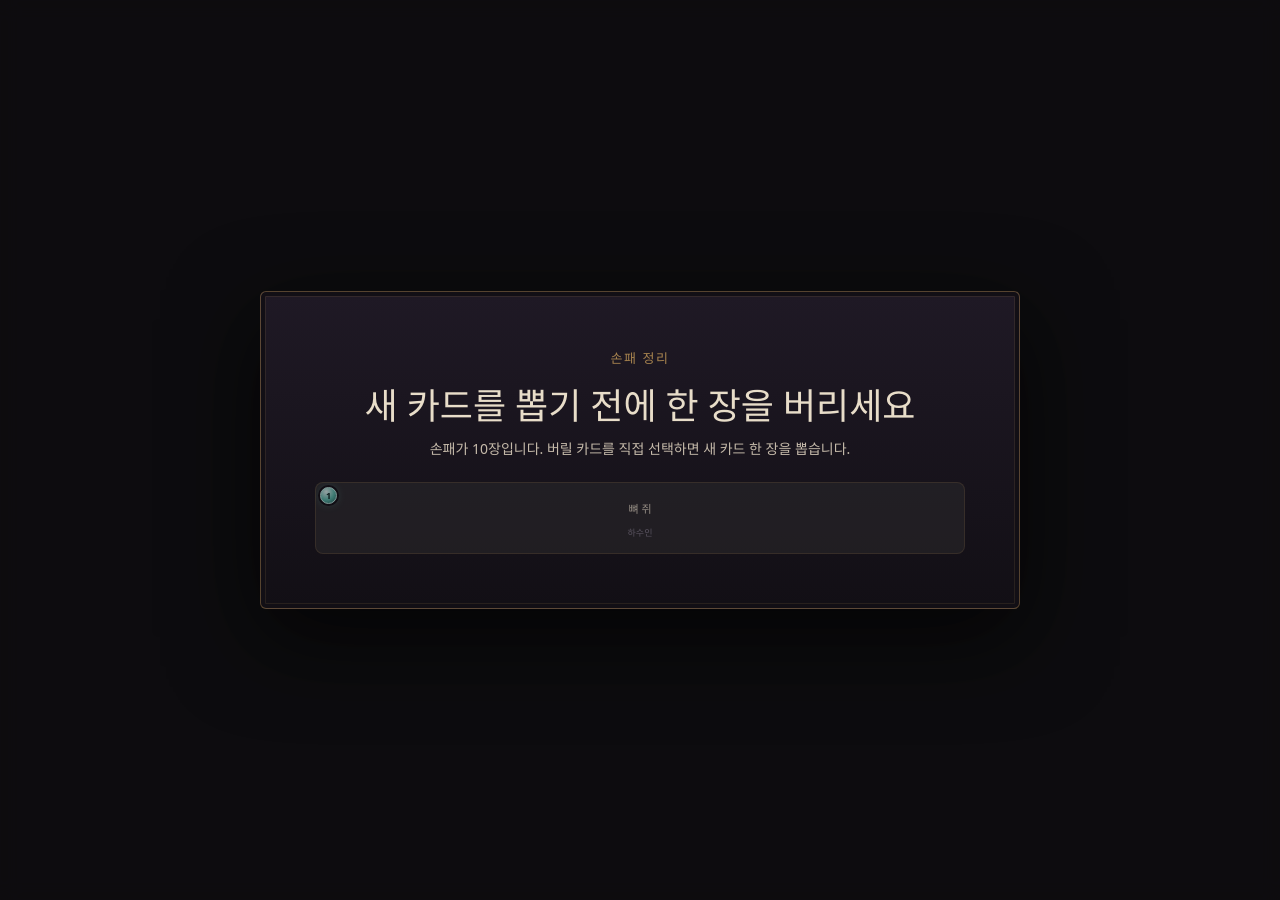
Test case: DiscardPicker › keeps the popup discard button disabled while a discard is being processed
This screenshot has width=1280, height=900.
Click the element with class "discard-card-inspection". click: (640, 518)
box: [315,482,965,554]
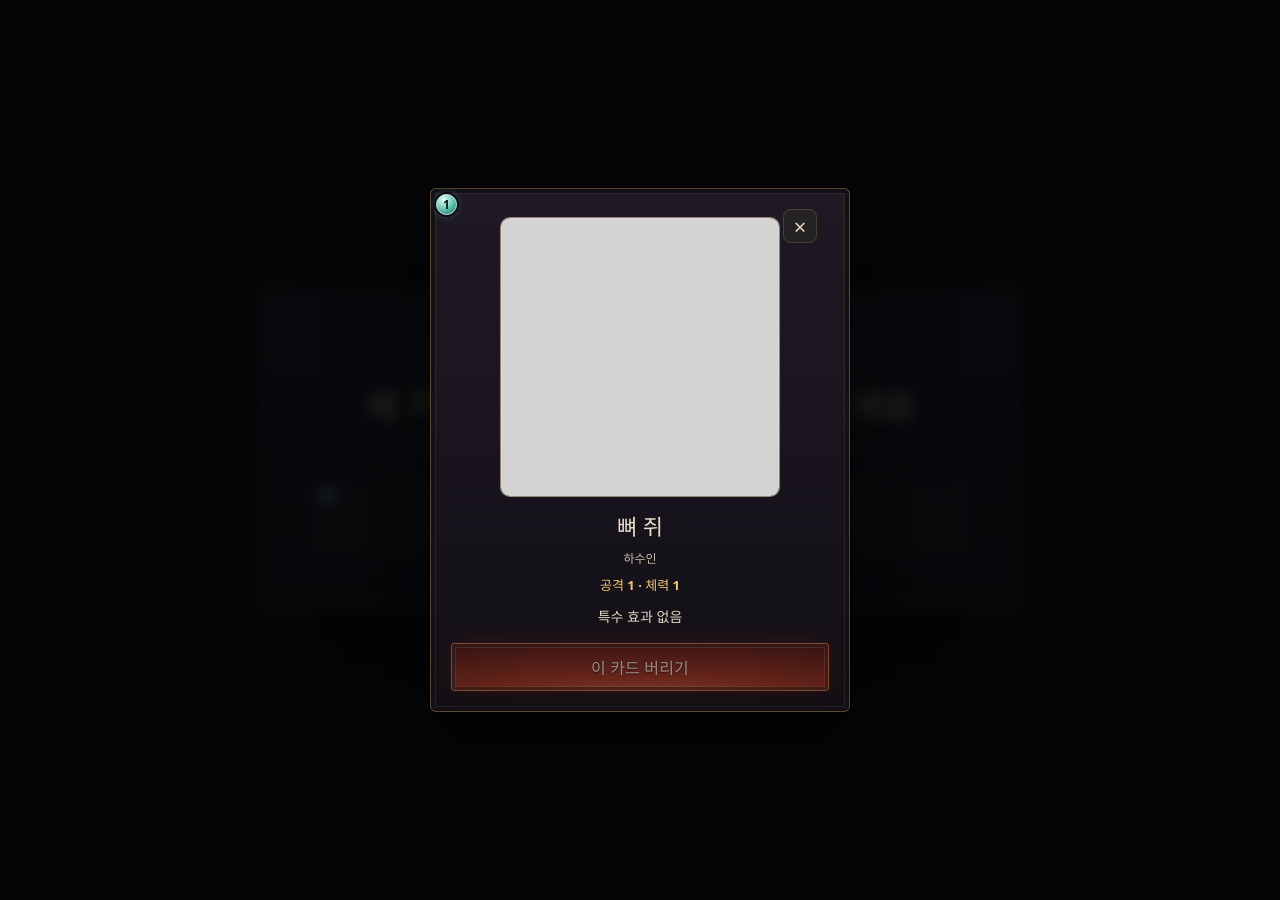
expect the button "이 카드 버리기" is disabled: met, box [451,643,829,691]
